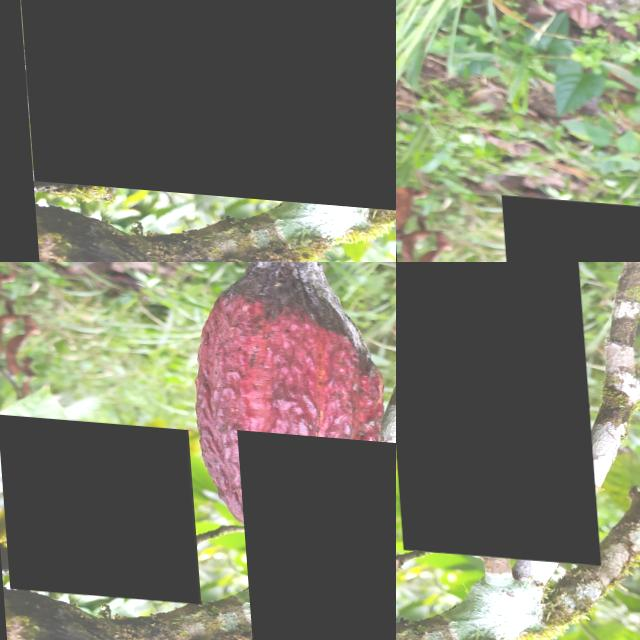Fitoftora: (396, 262, 593, 559), (0, 414, 192, 600)
Monilia: (10, 0, 396, 211)
Sana: (231, 425, 396, 640), (146, 262, 250, 397)
